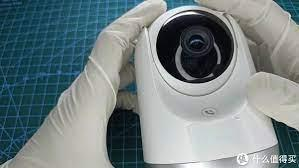maru: (145, 3, 243, 99)
